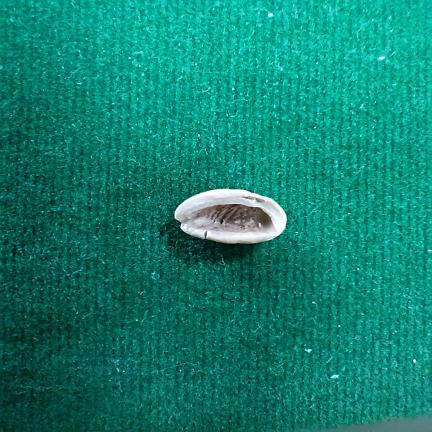shell: (175, 190, 286, 243)
